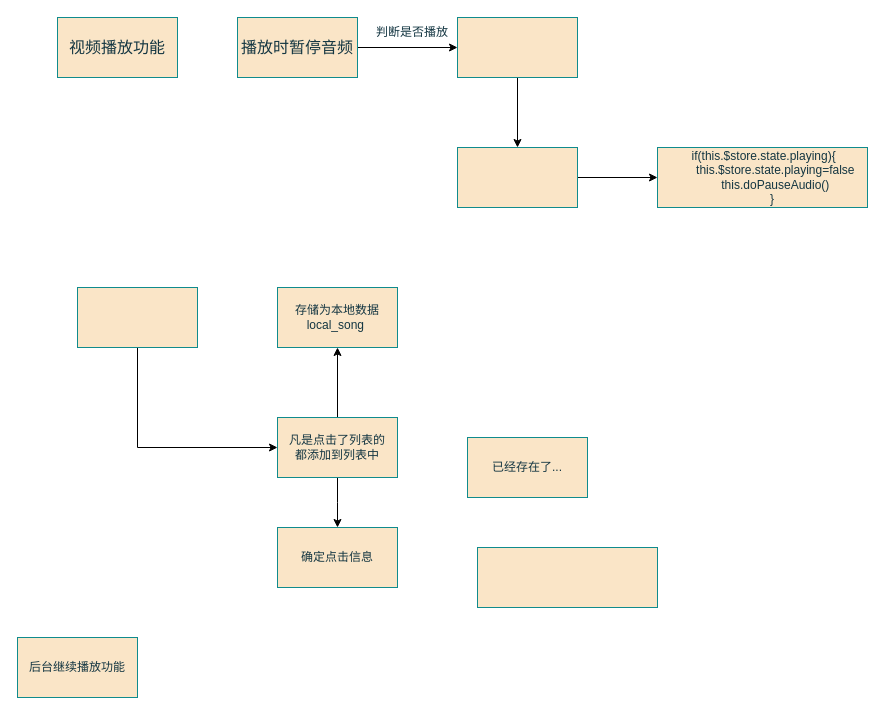
The diagram is 885 pixels wide and 715 high, and some of its shapes have lost their labels. Here are the shapes that lost their labels. From the top down, the box of each, then its label:
(456, 16, 578, 78): 确定暂停函数
(456, 146, 578, 208): 调用
(76, 286, 198, 348): 最近播放功能
(476, 546, 658, 608): let playlist = Storage.get_current_playlist();
